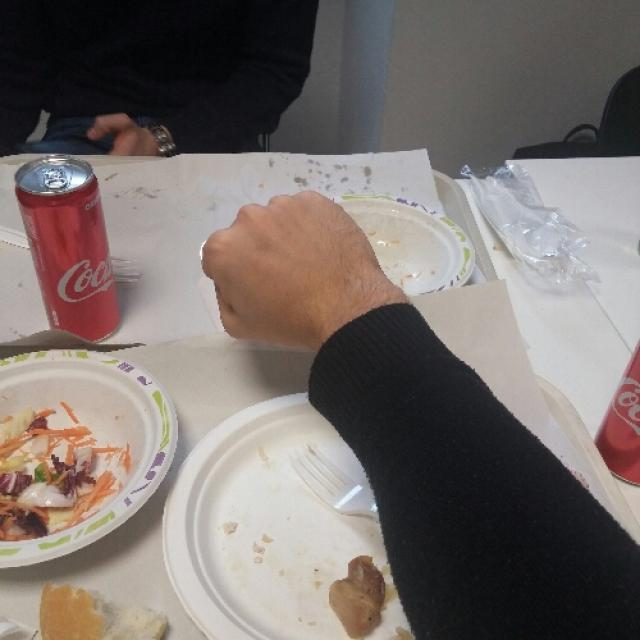fist: (202, 190, 390, 344)
